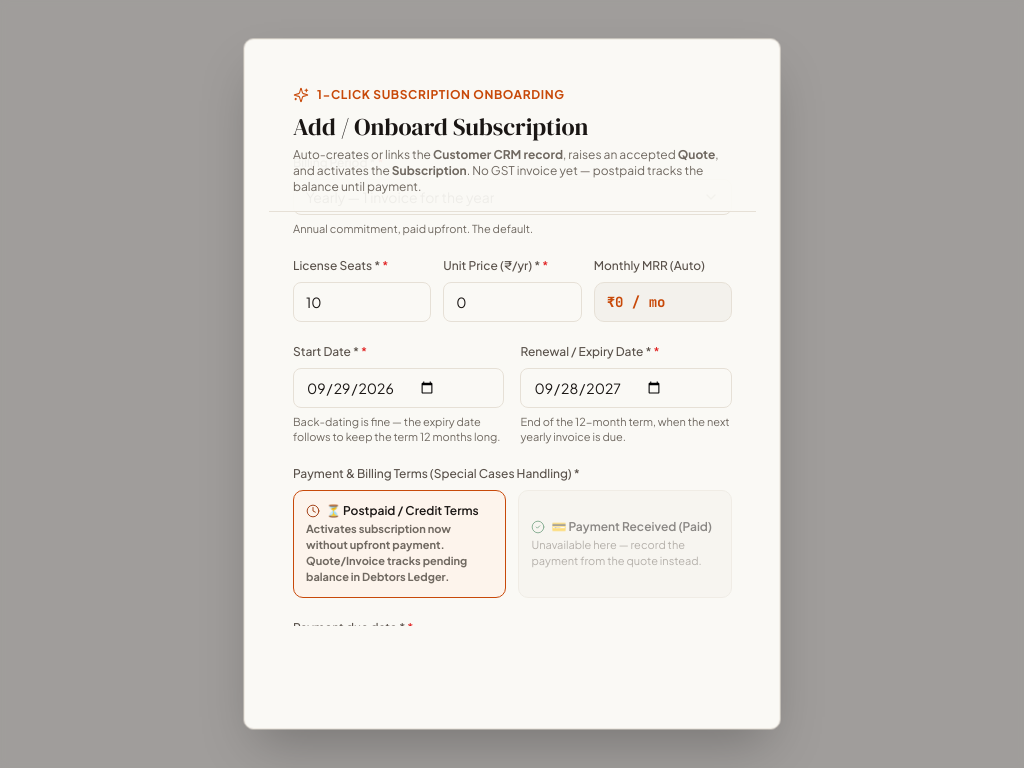
Test: Add Subscription — start and expiry dates › back-dating the start drags expiry with it, keeping a 12-month term
(page scrolled)
Step 1. Type "2026-04-01" into the date field with id "startDate" → (398, 388), box [292, 368, 504, 408]
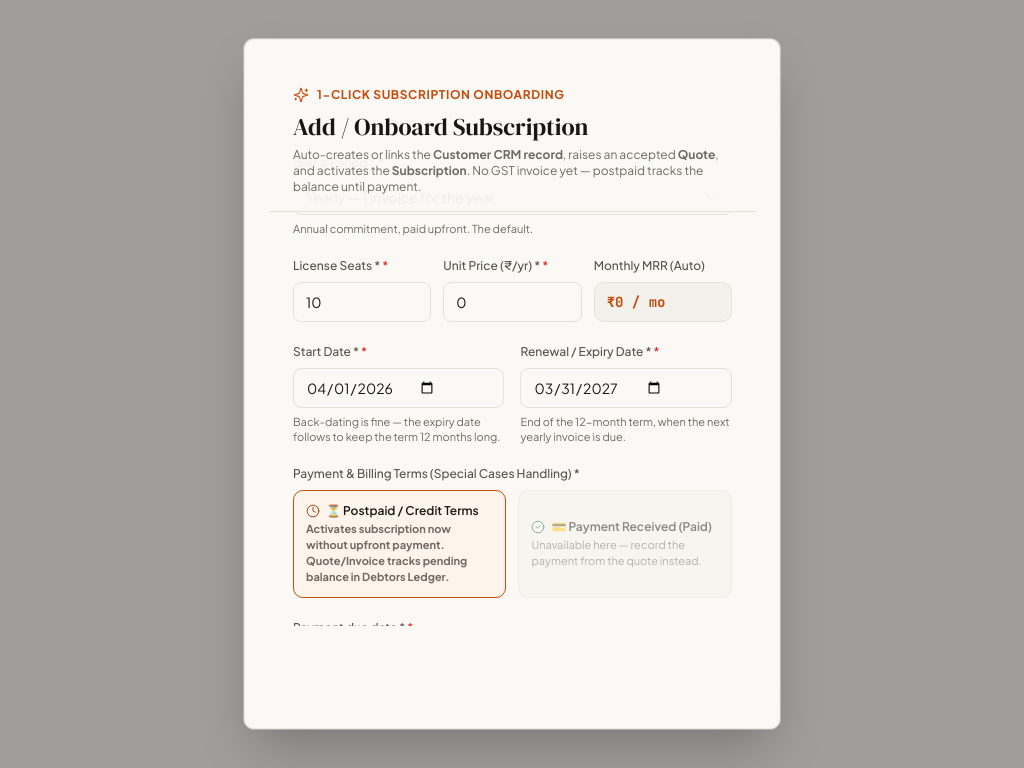
Now the date field with id "renewalDate" holds "2027-03-31", box [520, 368, 732, 408]
